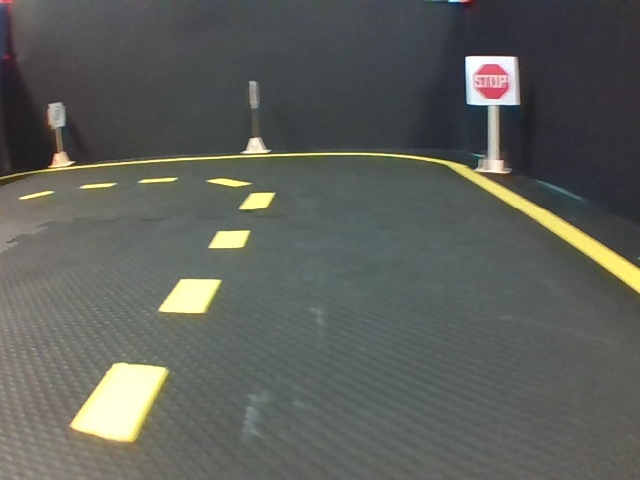30: (249, 82, 259, 108)
no30: (49, 103, 63, 127)
stop: (464, 55, 519, 107)
